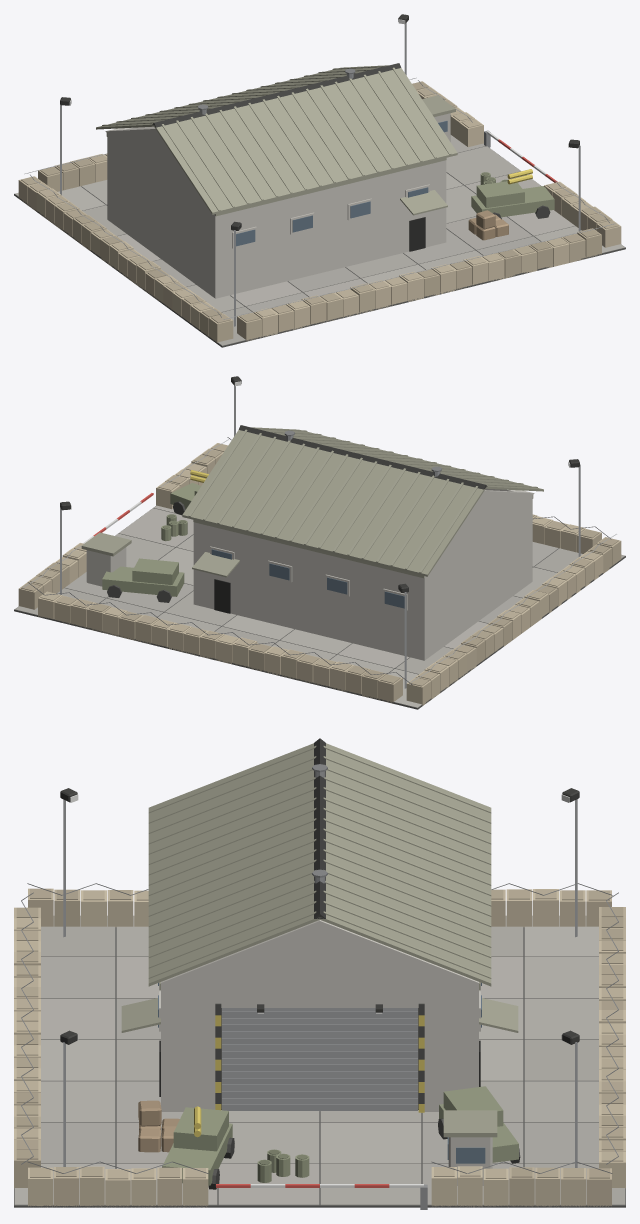
The model's file is b_jeepat.glb.
3 views of the same model, one above another, from view 1: azimuth 30°, elevation 25°; view 2: azimuth 150°, elevation 25°; view 3: azimuth 270°, elevation 25° (orthographic). The views are drawn at different scales.
Parts seen in each view (by area): view 1: hull; view 2: hull; view 3: hull, door.
Part boxes in pixels (x1,y1,x2,y2): hull: [14, 14, 625, 347]; hull: [14, 376, 625, 709]; hull: [14, 738, 625, 1209]; door: [222, 1008, 417, 1111].
Size of the model in its own units: 28.2 by 9.55 by 25.
